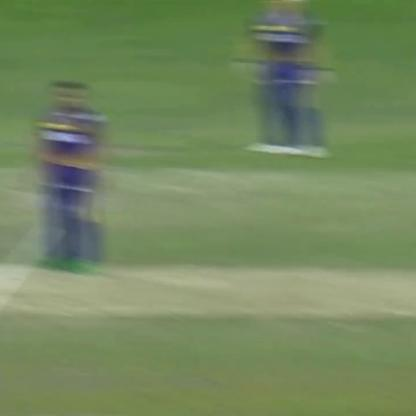pitch: (3, 255, 416, 336)
